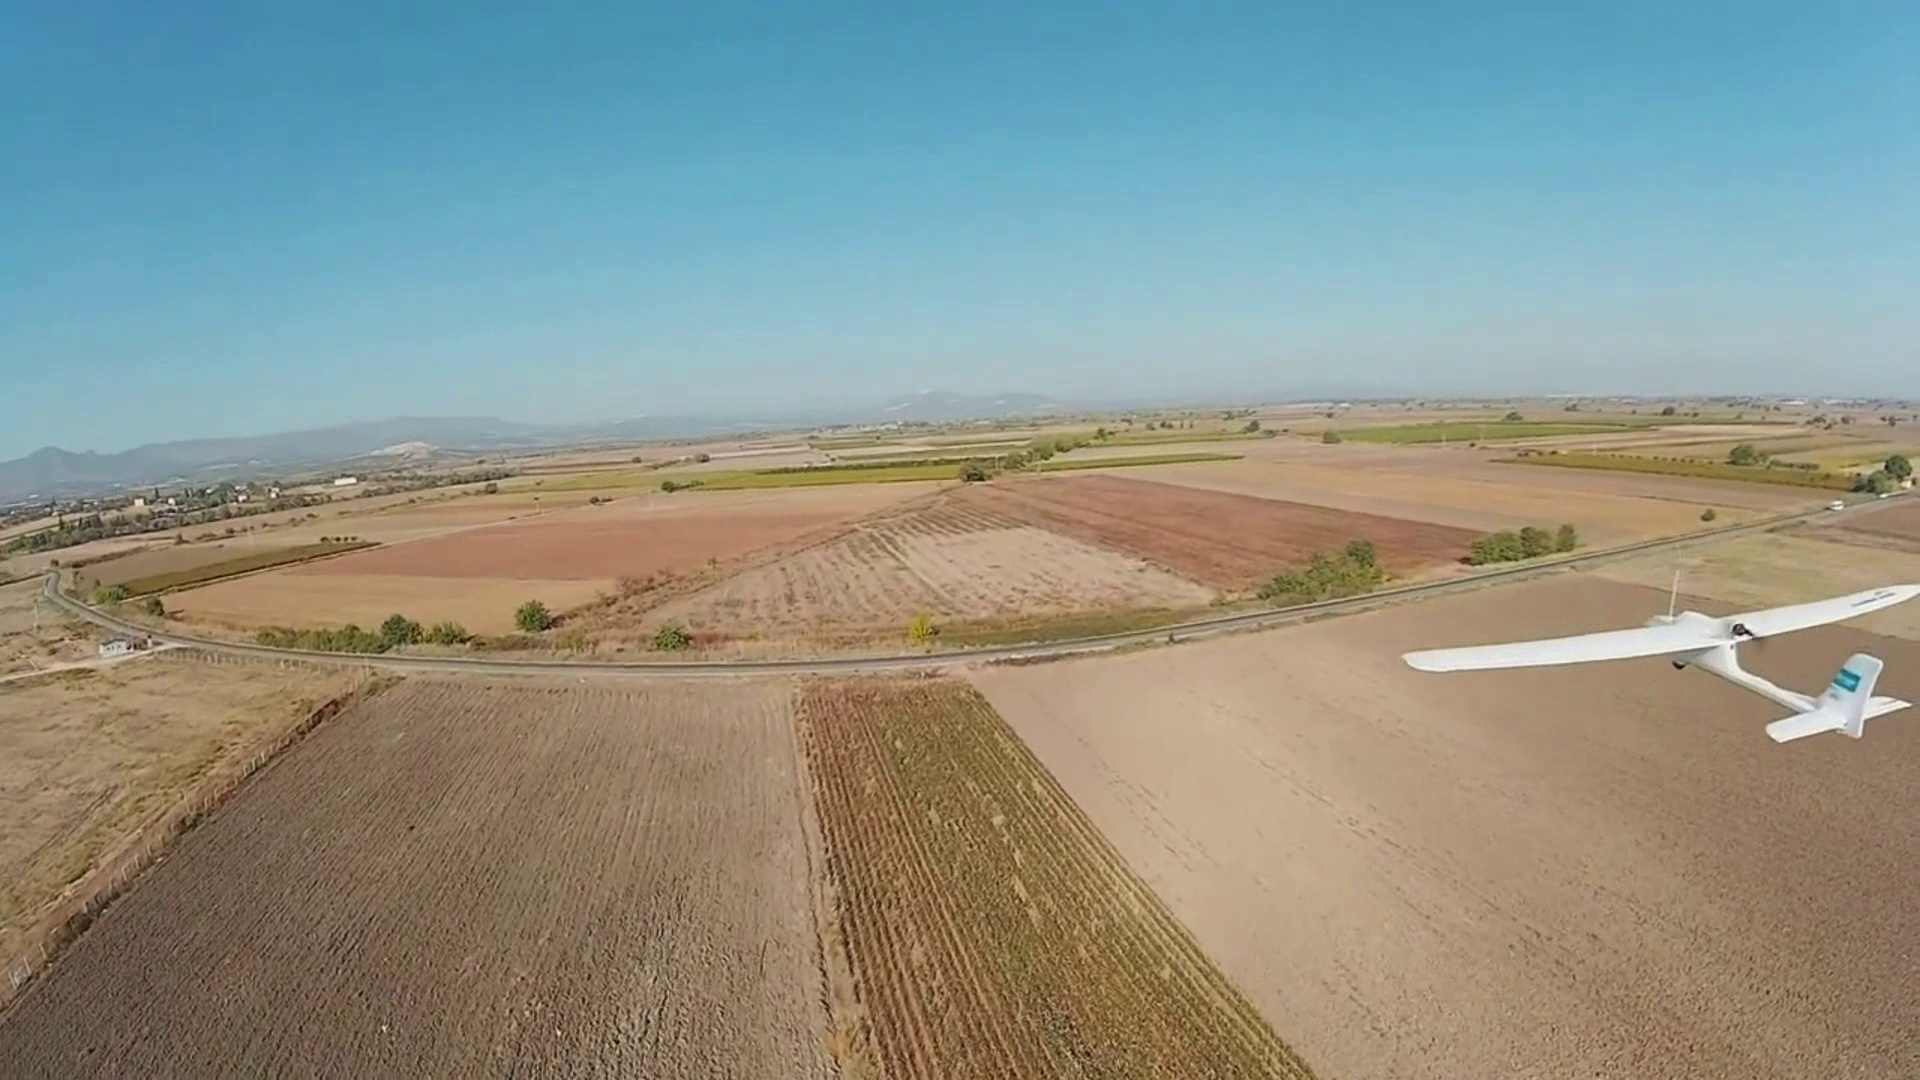airplane: (1404, 571, 1918, 743)
